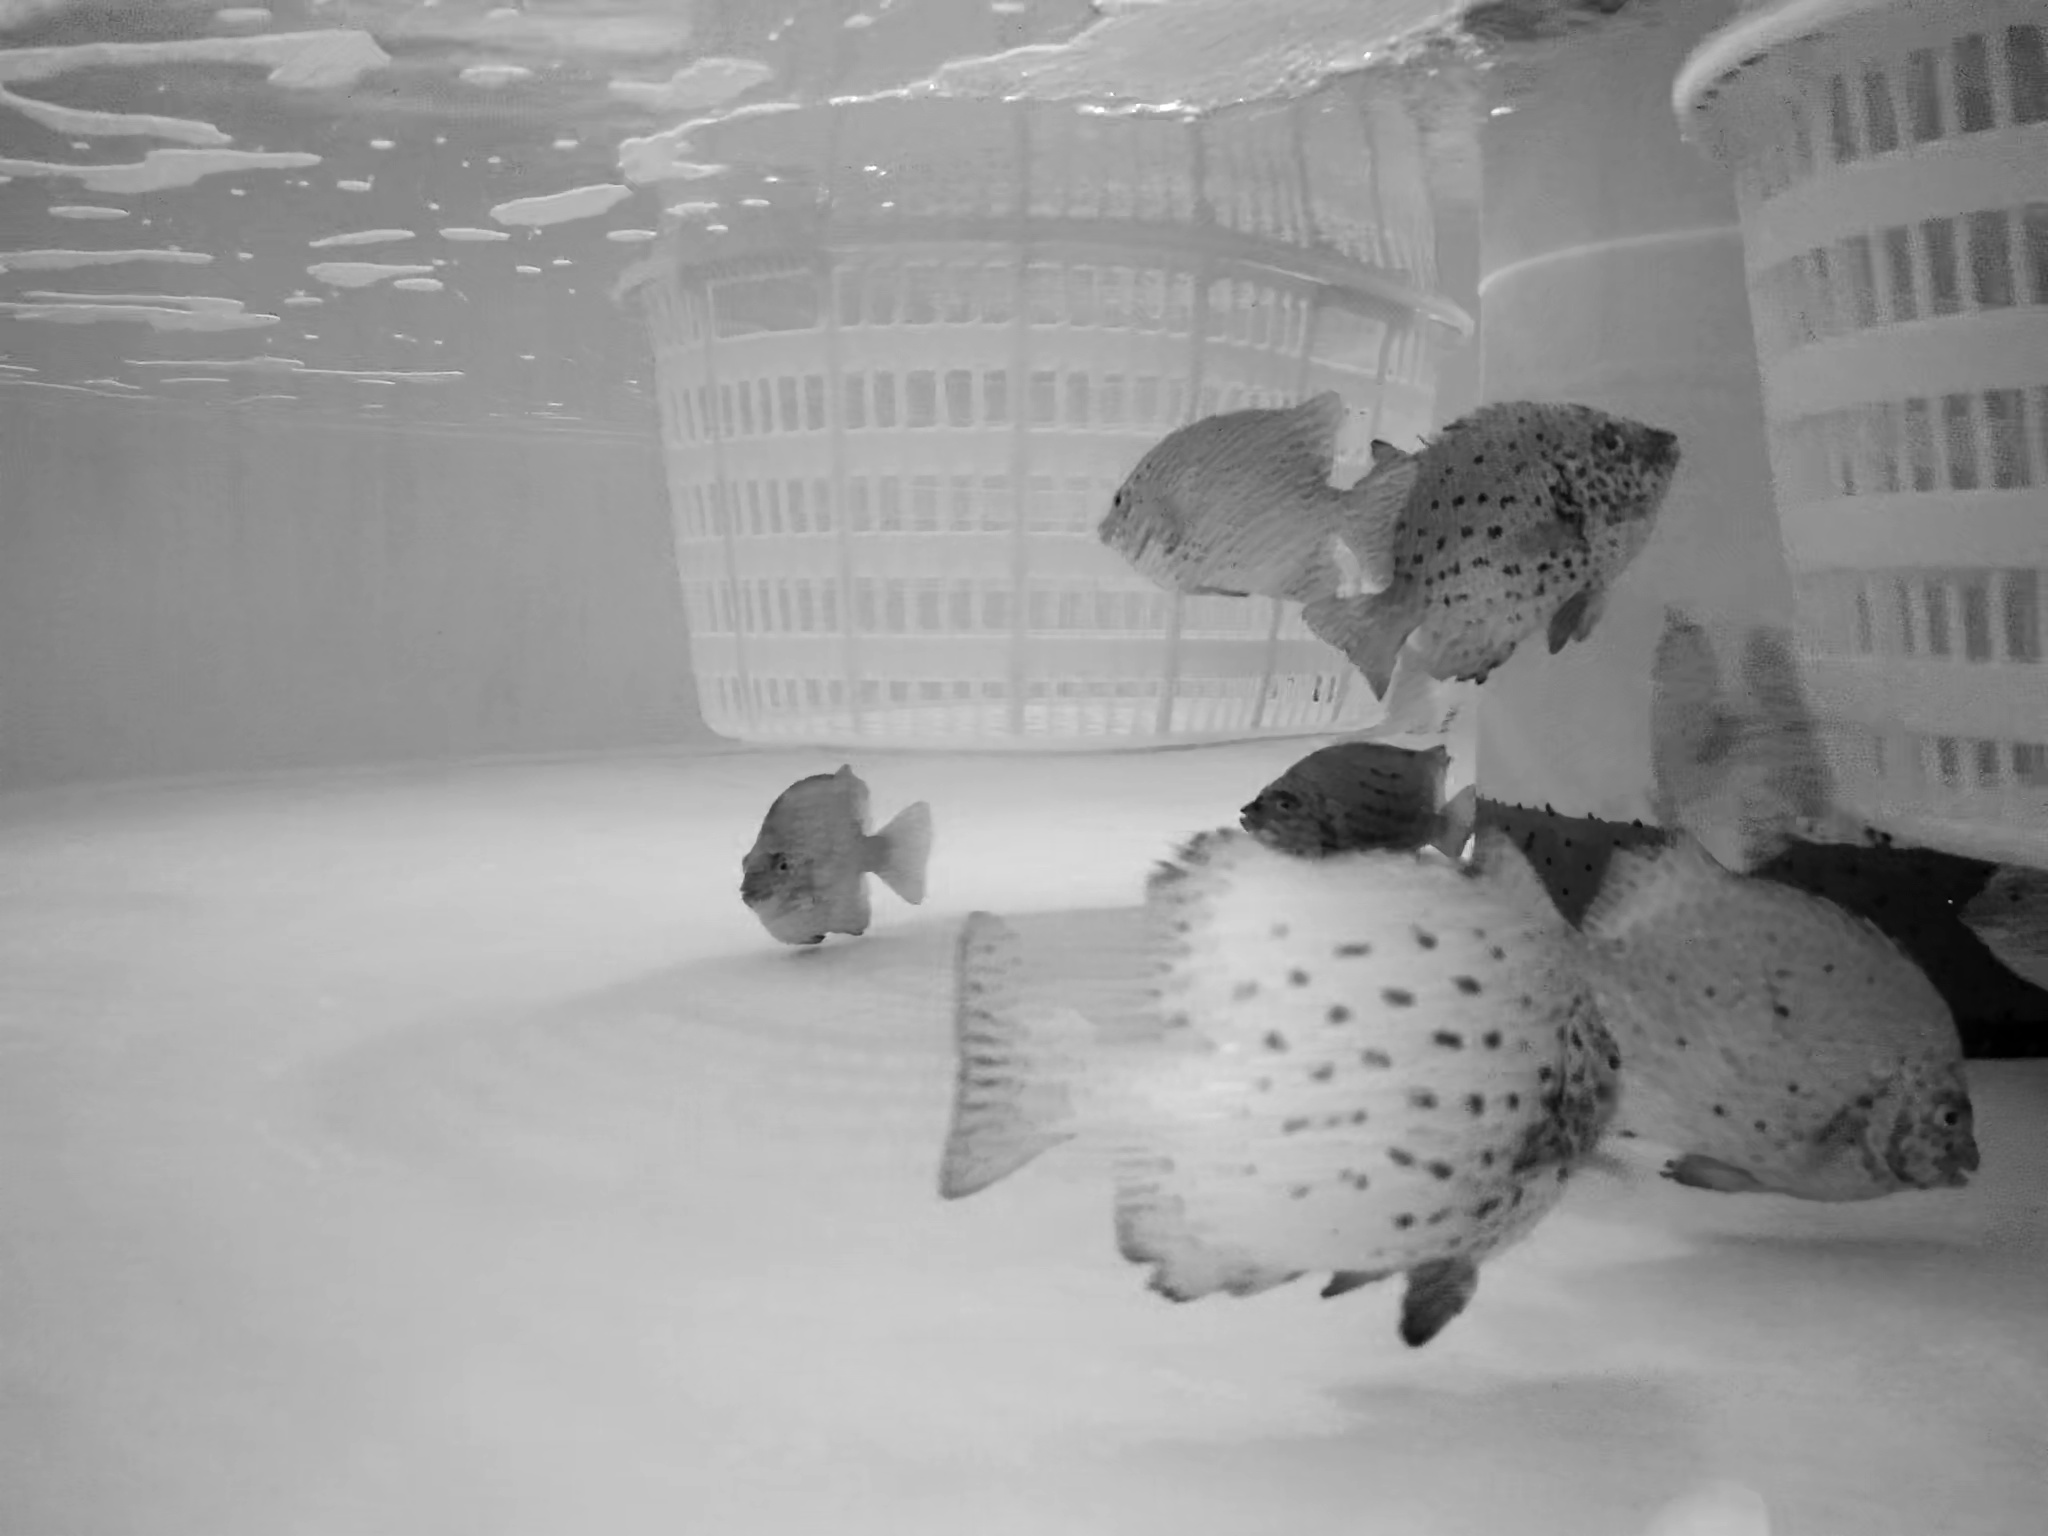fish: (924, 841, 1609, 1362), (1559, 831, 1988, 1218), (1316, 394, 1685, 684), (1093, 402, 1398, 599), (1643, 602, 1830, 826), (731, 762, 934, 944), (1218, 742, 1477, 871), (1966, 858, 2048, 992)
